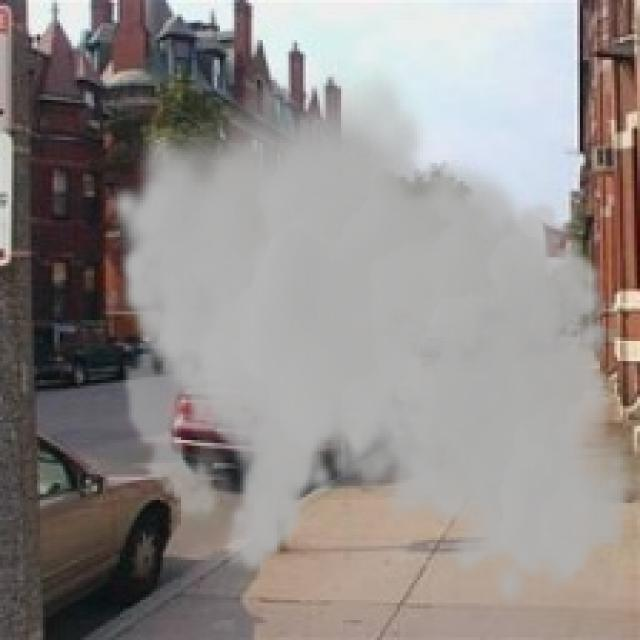Smoke: (106, 57, 634, 609)
